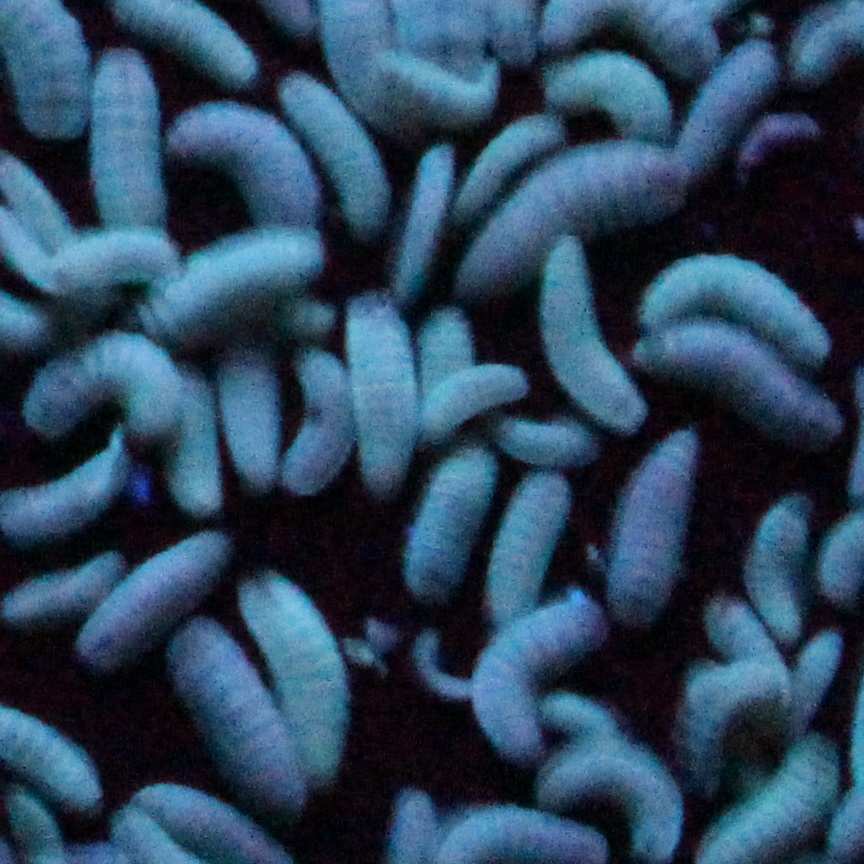larve: (468, 146, 696, 290), (232, 558, 351, 784), (471, 584, 616, 765), (267, 57, 406, 245), (642, 244, 845, 366), (72, 526, 240, 673), (538, 233, 652, 430), (6, 326, 192, 443), (145, 227, 338, 339), (164, 87, 316, 224), (600, 426, 703, 616), (336, 286, 423, 501), (80, 31, 170, 230), (402, 440, 500, 600), (204, 333, 295, 499), (482, 467, 576, 621), (740, 480, 816, 655), (277, 342, 359, 501), (530, 55, 664, 141), (418, 353, 533, 441), (0, 553, 129, 624)
